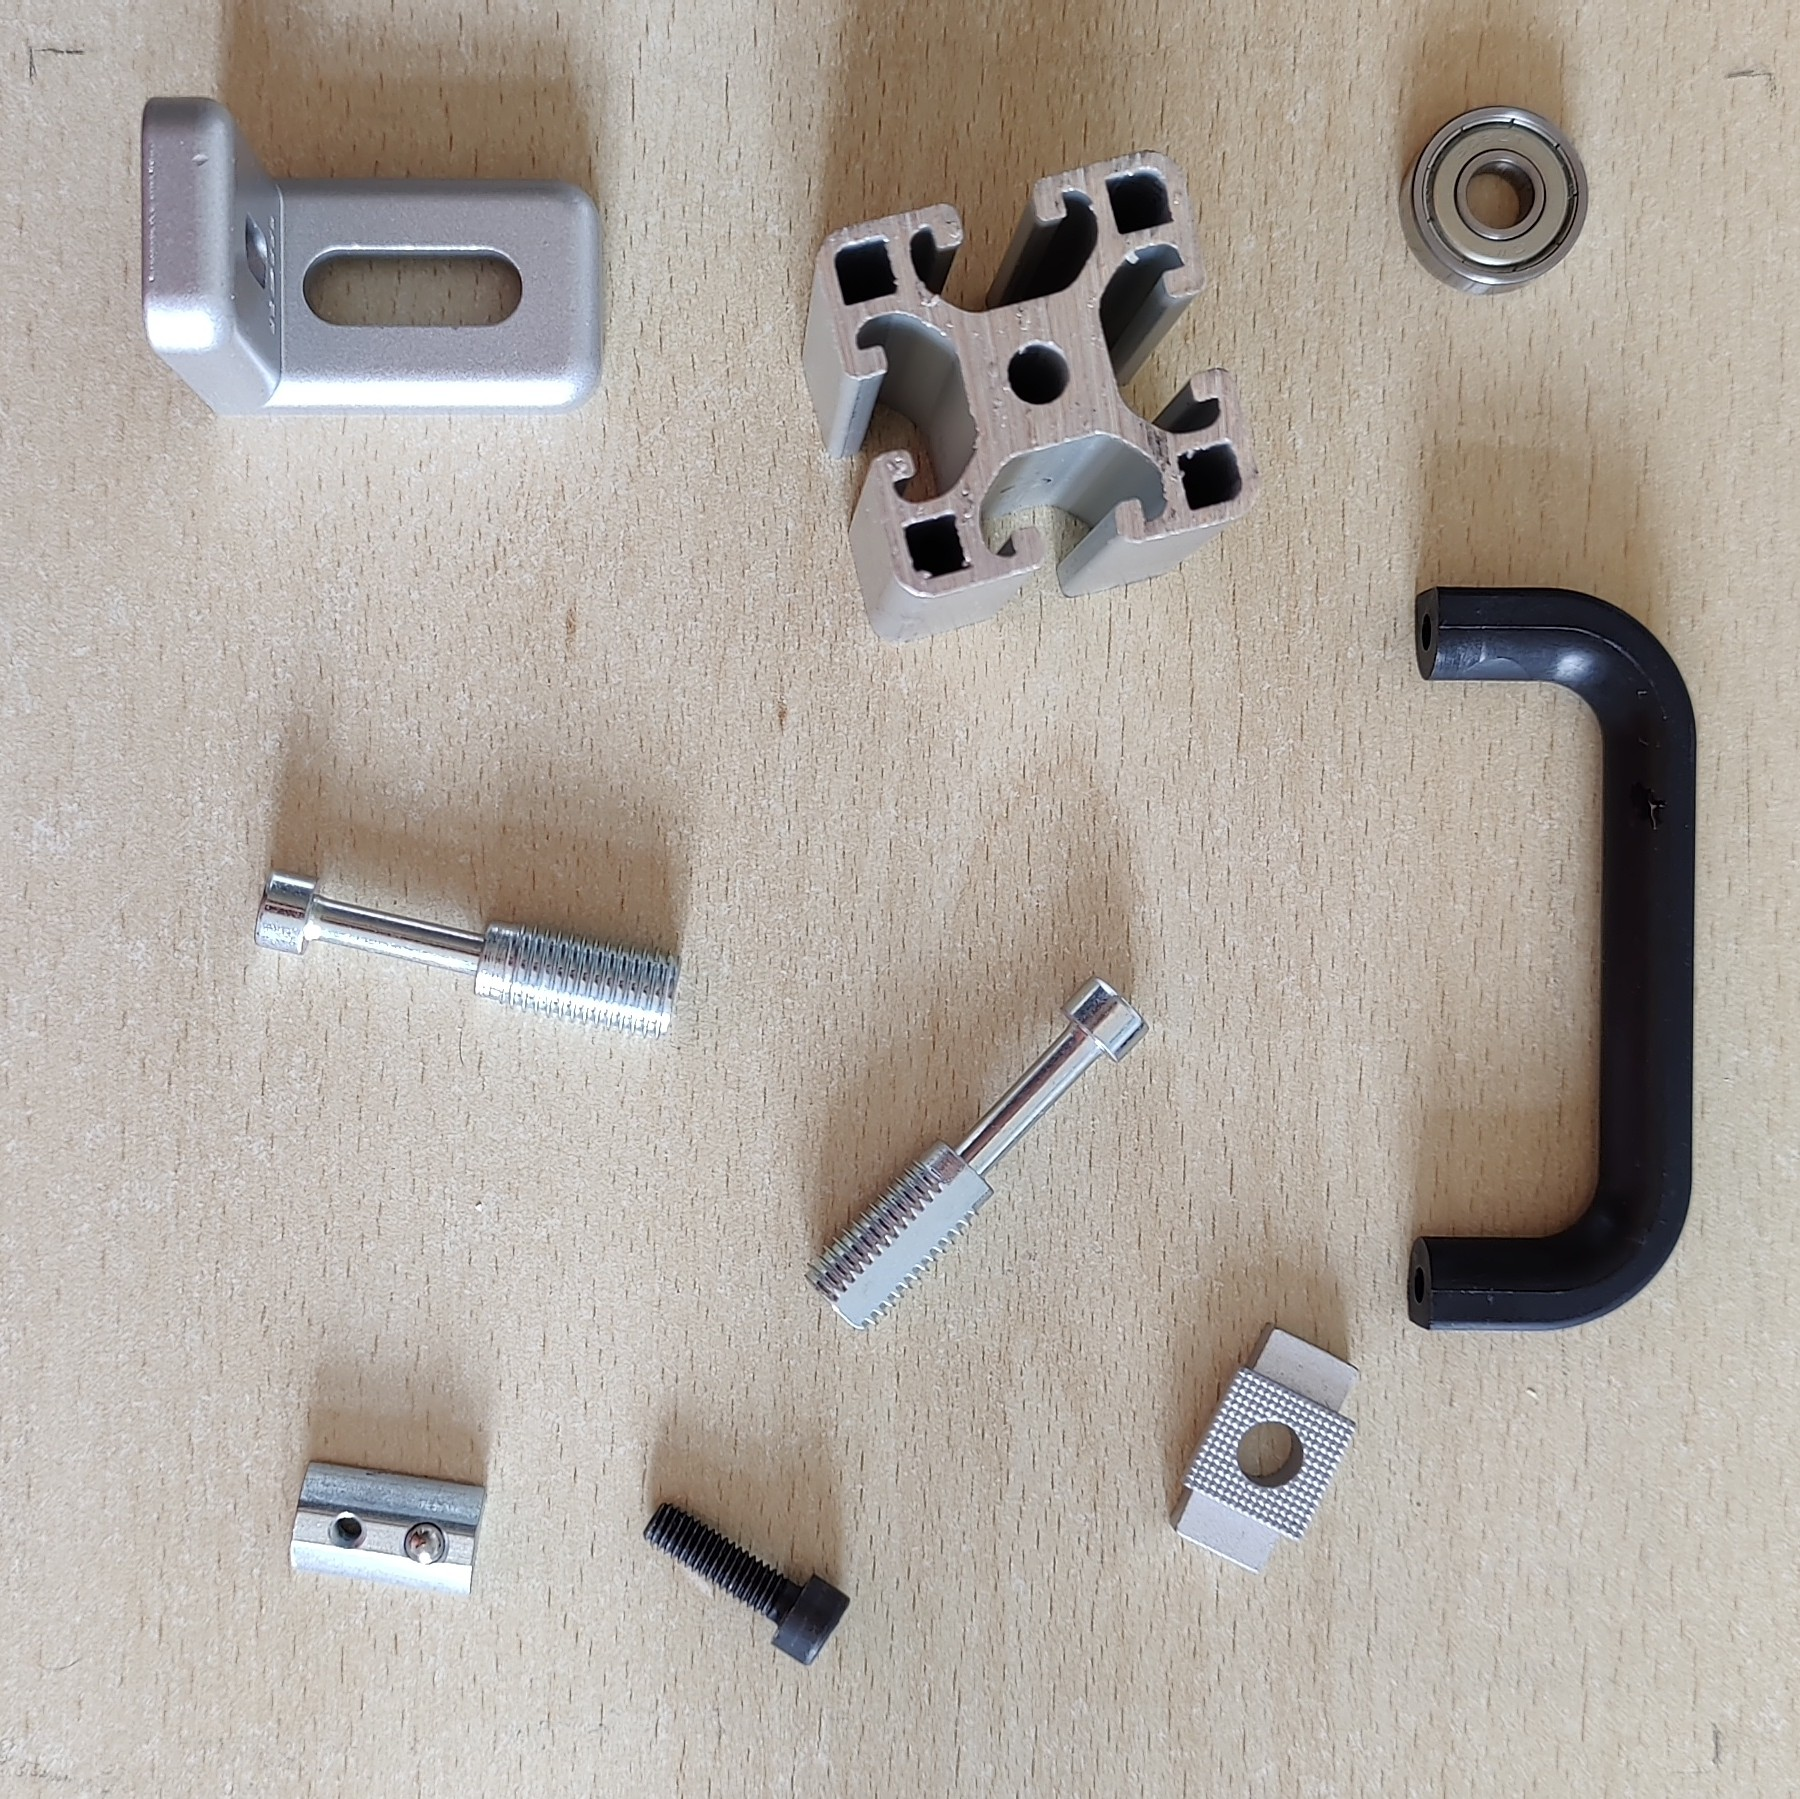Aluminium Extension: (800, 148, 1263, 644)
Ball Bearing: (1397, 102, 1592, 298)
Multiwinkel: (137, 91, 609, 422)
Pull Handle: (1405, 582, 1698, 1334)
Shoulder Socket Head Cap Screw: (804, 974, 1151, 1333), (250, 863, 685, 1044)
Socket Head Cap Screw: (637, 1501, 851, 1669)
T Nut Square: (1168, 1318, 1365, 1577)
T Spring Nut: (285, 1458, 489, 1600)
